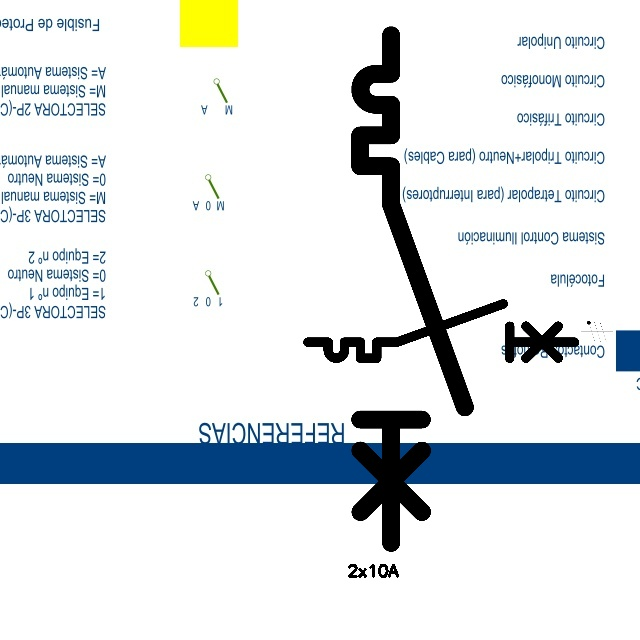interruptor_termomagnetico: (347, 22, 478, 556), (301, 297, 581, 365)
